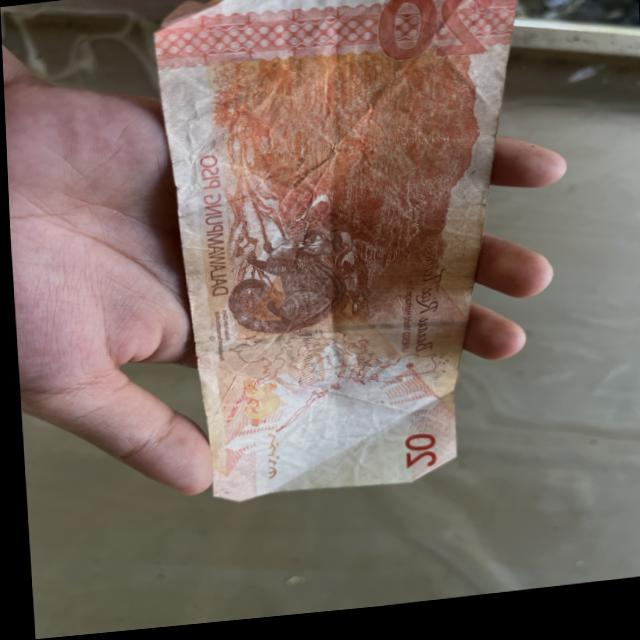20_civet: (223, 232, 341, 343)
20_civet_watermark: (236, 383, 286, 428)
